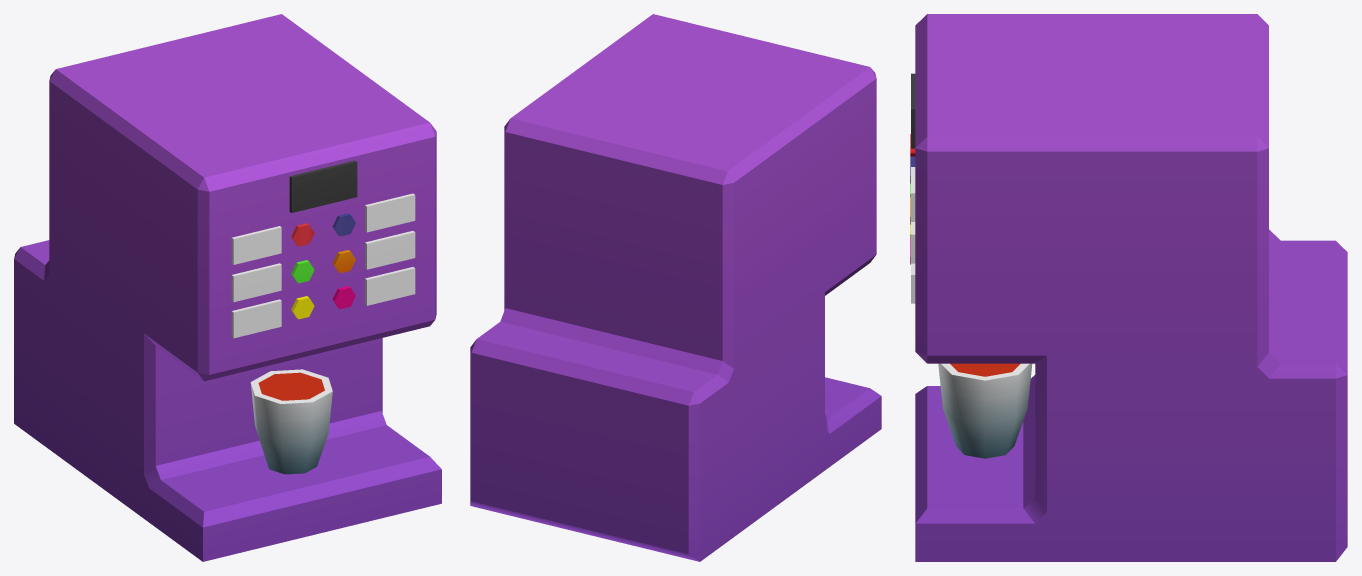
Rendered from Map02_Mayphache_LV2.fbx.
3 views of the same model, side by side, from view 1: azimuth 30°, elevation 25°; view 2: azimuth 150°, elevation 25°; view 3: azimuth 270°, elevation 25° (orthographic). The views are drawn at different scales.
Parts seen in each view (by area): view 1: Map02_Mayphache_LV2; view 2: Map02_Mayphache_LV2; view 3: Map02_Mayphache_LV2.
Boxes of the visible parts, <box> form: Map02_Mayphache_LV2: <box>14,14,441,561</box>; Map02_Mayphache_LV2: <box>470,14,881,561</box>; Map02_Mayphache_LV2: <box>910,14,1347,561</box>.
Size of the model in its own units: 61.31 by 92.89 by 87.31.
